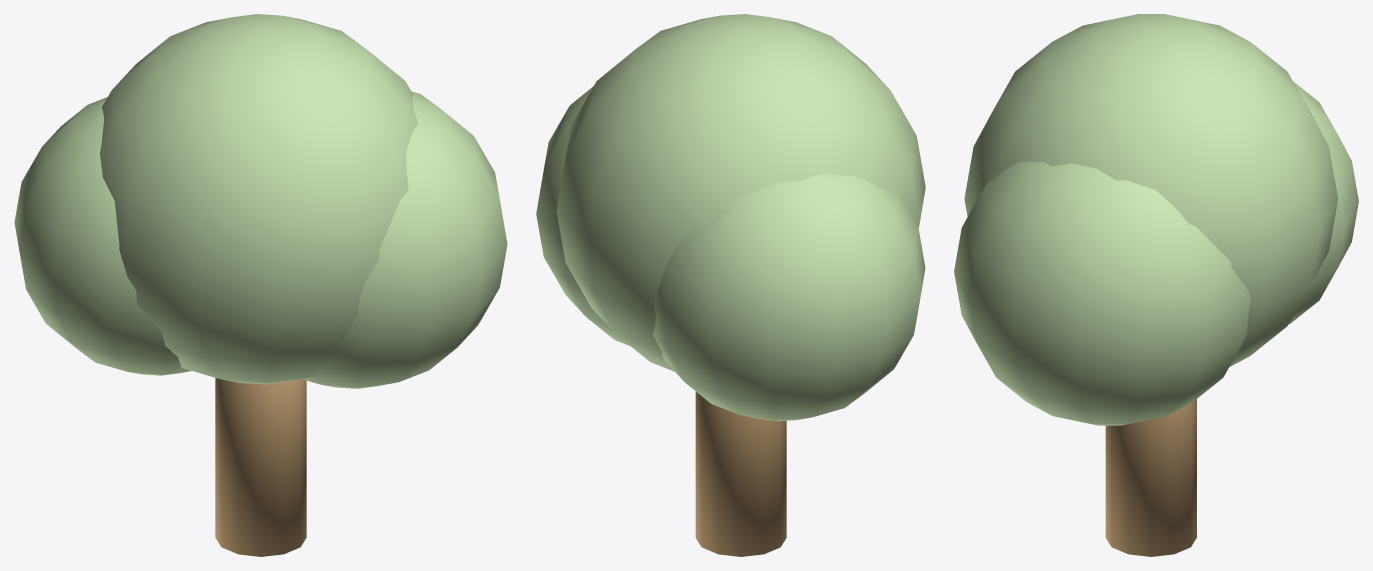
File: prop_oak_tree.glb
3 renders of one model, left to right at view 1: azimuth 30°, elevation 25°; view 2: azimuth 150°, elevation 25°; view 3: azimuth 270°, elevation 25°, orthographic.
Visible parts, largest first — view 1: prop_oak_tree; view 2: prop_oak_tree; view 3: prop_oak_tree.
Boxes of the visible parts, x1,y1,x2,y2 form: prop_oak_tree: [14, 14, 507, 556]; prop_oak_tree: [536, 14, 925, 556]; prop_oak_tree: [954, 14, 1358, 556].
Bounding box in the file's own units: 2.21 × 2.7 × 1.95.
